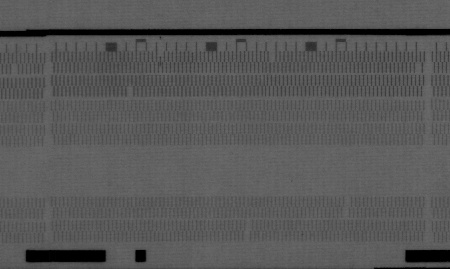Broken hole: (1, 144, 450, 196), (339, 195, 354, 218), (240, 220, 252, 244), (266, 50, 278, 63), (10, 64, 21, 78), (413, 62, 424, 75), (125, 86, 135, 98)
Oblique printing: (154, 51, 165, 67)
